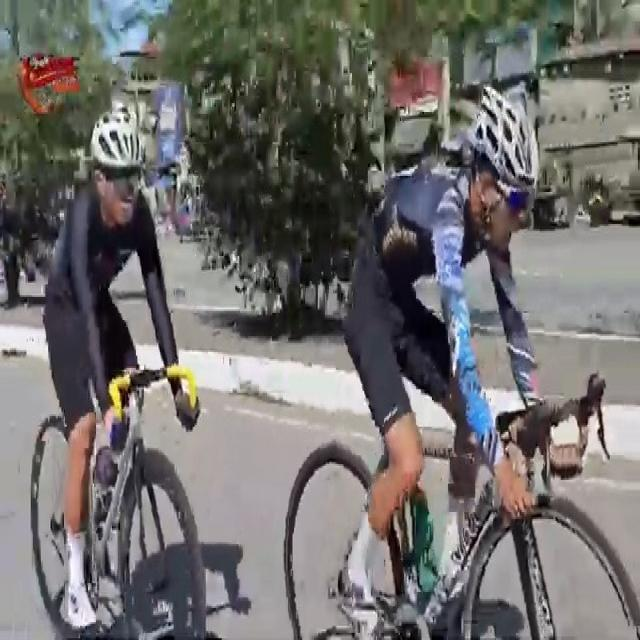bike: (279, 85, 640, 640), (30, 107, 213, 640)
